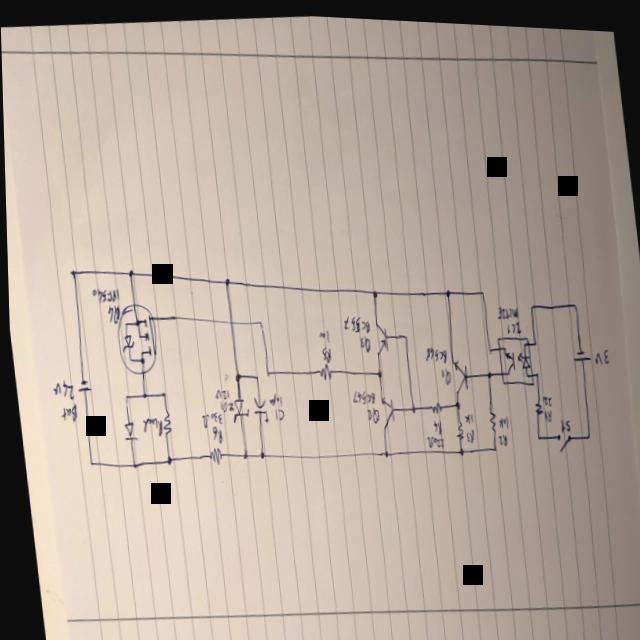capacitor: (250, 392, 267, 422)
crossover: (227, 318, 232, 324)
diode: (228, 395, 249, 421), (120, 419, 136, 440), (119, 333, 133, 351)
junction: (231, 369, 240, 382), (370, 285, 378, 295), (452, 396, 460, 406), (139, 389, 147, 399), (408, 400, 415, 411), (126, 267, 133, 278), (456, 443, 463, 453), (163, 454, 170, 464), (374, 366, 381, 376), (257, 447, 264, 457), (443, 284, 450, 294), (223, 275, 230, 285), (240, 448, 247, 458), (401, 329, 408, 339), (68, 268, 75, 278), (263, 367, 270, 377), (583, 427, 590, 436), (158, 389, 165, 398), (256, 316, 262, 326), (86, 459, 92, 468), (533, 428, 539, 437), (252, 371, 258, 380), (126, 355, 132, 364), (381, 447, 387, 455), (129, 461, 135, 469), (485, 366, 490, 375), (121, 320, 127, 327), (490, 441, 495, 449), (486, 342, 491, 350), (478, 285, 483, 293), (528, 298, 533, 306), (533, 366, 538, 374), (572, 297, 577, 305), (531, 334, 536, 342), (122, 393, 127, 401), (138, 356, 143, 363), (133, 319, 138, 325)
resistor: (205, 443, 222, 465), (485, 403, 496, 431), (316, 360, 331, 379), (160, 410, 170, 436), (452, 415, 463, 436), (428, 398, 440, 411), (532, 395, 541, 411)
source: (570, 342, 589, 359), (74, 377, 90, 395)
switch: (553, 427, 570, 448)
text: (90, 284, 119, 305), (49, 377, 73, 402), (341, 310, 369, 331), (422, 339, 447, 362), (198, 408, 221, 429), (139, 414, 160, 435), (57, 401, 76, 423), (494, 300, 517, 318), (351, 386, 374, 403), (104, 304, 121, 326), (591, 342, 608, 362), (424, 430, 442, 446), (364, 402, 378, 422), (502, 316, 520, 331), (209, 423, 222, 443), (357, 331, 370, 351), (265, 390, 281, 406), (461, 421, 474, 440), (438, 363, 450, 382), (217, 397, 232, 412), (211, 386, 228, 399), (316, 326, 329, 342), (495, 410, 507, 426), (557, 412, 569, 428), (320, 343, 330, 362), (495, 427, 506, 443), (272, 404, 283, 420), (540, 388, 551, 403), (431, 414, 440, 432), (541, 403, 551, 417), (461, 408, 471, 420)
transistor: (131, 312, 156, 365), (449, 354, 469, 392), (377, 391, 395, 430), (372, 317, 388, 355)
